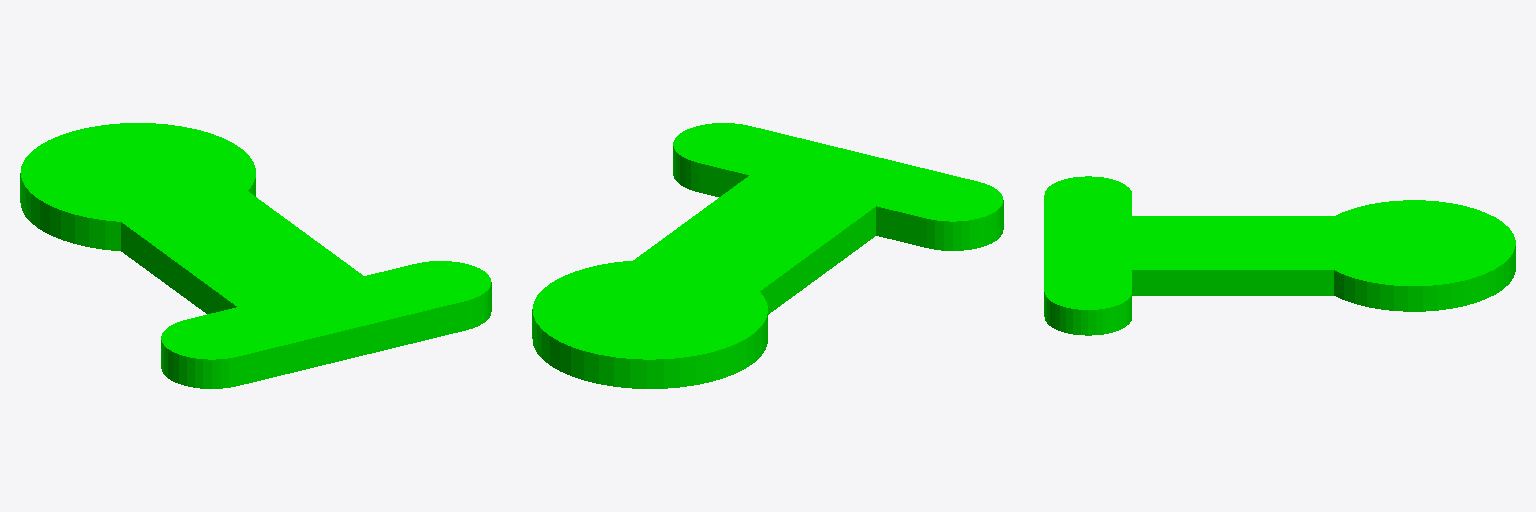
URDF robot description (rm_65_description):
<?xml version="1.0" encoding="utf-8"?>
<robot
  name="rm_65_description">
  <link
    name="base_link">
    <inertial>
      <origin
        xyz="-0.000433277303987328 -3.54664423471128E-05 0.0599427668933796"
        rpy="0 0 0" />
      <mass
        value="0.841070778135659" />
      <inertia
        ixx="0.0017261110801622"
        ixy="2.52746264980217E-06"
        ixz="-3.67690303614961E-05"
        iyy="0.00170987405835604"
        iyz="1.67996364994424E-06"
        izz="0.000904023422915791" />
    </inertial>
    <visual>
      <origin
        xyz="0 0 0"
        rpy="0 0 0" />
      <geometry>
        <mesh
          filename="package://rm_description/meshes/rm_65_arm/base_link.STL" />
      </geometry>
      <material
        name="">
        <color
          rgba="1 1 1 1" />
      </material>
    </visual>
    <collision>
      <origin
        xyz="0 0 0"
        rpy="0 0 0" />
      <geometry>
        <mesh
          filename="package://rm_description/meshes/rm_65_arm/base_link.STL" />
      </geometry>
    </collision>
  </link>
  <link
    name="Link1">
    <inertial>
      <origin
        xyz="1.2226305431569E-08 0.0211079974844683 -0.0251854220842269"
        rpy="0 0 0" />
      <mass
        value="0.593563443690403" />
      <inertia
        ixx="0.00126614120341847"
        ixy="-1.294980943835E-08"
        ixz="-9.80120923066996E-09"
        iyy="0.00118168178300364"
        iyz="-0.00021121727444415"
        izz="0.00056135241627747" />
    </inertial>
    <visual>
      <origin
        xyz="0 0 0"
        rpy="0 0 0" />
      <geometry>
        <mesh
          filename="package://rm_description/meshes/rm_65_arm/link1.STL" />
      </geometry>
      <material
        name="">
        <color
          rgba="1 1 1 1" />
      </material>
    </visual>
    <collision>
      <origin
        xyz="0 0 0"
        rpy="0 0 0" />
      <geometry>
        <mesh
          filename="package://rm_description/meshes/rm_65_arm/link1.STL" />
      </geometry>
    </collision>
  </link>
  <joint
    name="joint1"
    type="revolute">
    <origin
      xyz="0 0 0.2405"
      rpy="0 0 0" />
    <parent
      link="base_link" />
    <child
      link="Link1" />
    <axis
      xyz="0 0 1" />
    <limit
      lower="-3.1"
      upper="3.1"
      effort="60"
      velocity="3.14" />
  </joint>
  <link
    name="Link2">
    <inertial>
      <origin
        xyz="0.152256463426163 4.75383656106654E-07 -0.00620260383607792"
        rpy="0 0 0" />
      <mass
        value="0.864175046869043" />
      <inertia
        ixx="0.00089150298478414"
        ixy="-2.23268489334765E-08"
        ixz="0.00156246461035015"
        iyy="0.00733754343083901"
        iyz="6.28110889329165E-09"
        izz="0.00697869103915473" />
    </inertial>
    <visual>
      <origin
        xyz="0 0 0"
        rpy="0 0 0" />
      <geometry>
        <mesh
          filename="package://rm_description/meshes/rm_65_arm/link2.STL" />
      </geometry>
      <material
        name="">
        <color
          rgba="1 1 1 1" />
      </material>
    </visual>
    <collision>
      <origin
        xyz="0 0 0"
        rpy="0 0 0" />
      <geometry>
        <mesh
          filename="package://rm_description/meshes/rm_65_arm/link2.STL" />
      </geometry>
    </collision>
  </link>
  <joint
    name="joint2"
    type="revolute">
    <origin
      xyz="0 0 0"
      rpy="1.5708 -1.5708 0" />
    <parent
      link="Link1" />
    <child
      link="Link2" />
    <axis
      xyz="0 0 1" />
    <limit
      lower="-2.268"
      upper="2.268"
      effort="60"
      velocity="3.14" />
  </joint>
  <link
    name="Link3">
    <inertial>
      <origin
        xyz="5.05312670989961E-06 -0.0595925663694732 0.010569069212336"
        rpy="0 0 0" />
      <mass
        value="0.289633681624654" />
      <inertia
        ixx="0.00063737100450158"
        ixy="-7.05261293649751E-08"
        ixz="-3.86643272239426E-08"
        iyy="0.00015648388095025"
        iyz="-0.00014461035994916"
        izz="0.000614178164773085" />
    </inertial>
    <visual>
      <origin
        xyz="0 0 0"
        rpy="0 0 0" />
      <geometry>
        <mesh
          filename="package://rm_description/meshes/rm_65_arm/link3.STL" />
      </geometry>
      <material
        name="">
        <color
          rgba="1 1 1 1" />
      </material>
    </visual>
    <collision>
      <origin
        xyz="0 0 0"
        rpy="0 0 0" />
      <geometry>
        <mesh
          filename="package://rm_description/meshes/rm_65_arm/link3.STL" />
      </geometry>
    </collision>
  </link>
  <joint
    name="joint3"
    type="revolute">
    <origin
      xyz="0.256 0 0"
      rpy="0 0 1.5708" />
    <parent
      link="Link2" />
    <child
      link="Link3" />
    <axis
      xyz="0 0 1" />
    <limit
      lower="-2.355"
      upper="2.355"
      effort="30"
      velocity="3.92" />
  </joint>
  <link
    name="Link4">
    <inertial>
      <origin
        xyz="1.15516617405898E-06 -0.0180424468598241 -0.0215394748352687"
        rpy="0 0 0" />
      <mass
        value="0.239419768320061" />
      <inertia
        ixx="0.000285938919722783"
        ixy="3.07101359163101E-09"
        ixz="-2.21994118981953E-09"
        iyy="0.000262727540304212"
        iyz="4.4236583260078E-05"
        izz="0.000119888082791859" />
    </inertial>
    <visual>
      <origin
        xyz="0 0 0"
        rpy="0 0 0" />
      <geometry>
        <mesh
          filename="package://rm_description/meshes/rm_65_arm/link4.STL" />
      </geometry>
      <material
        name="">
        <color
          rgba="1 1 1 1" />
      </material>
    </visual>
    <collision>
      <origin
        xyz="0 0 0"
        rpy="0 0 0" />
      <geometry>
        <mesh
          filename="package://rm_description/meshes/rm_65_arm/link4.STL" />
      </geometry>
    </collision>
  </link>
  <joint
    name="joint4"
    type="revolute">
    <origin
      xyz="0 -0.21 0"
      rpy="1.5708 0 0" />
    <parent
      link="Link3" />
    <child
      link="Link4" />
    <axis
      xyz="0 0 1" />
    <limit
      lower="-3.1"
      upper="3.1"
      effort="10"
      velocity="3.92" />
  </joint>
  <link
    name="Link5">
    <inertial>
      <origin
        xyz="3.19794786262152E-06 -0.0593808368101458 0.00736804250989326"
        rpy="0 0 0" />
      <mass
        value="0.218799761431678" />
      <inertia
        ixx="0.000350540363914072"
        ixy="-3.41781619975602E-08"
        ixz="-1.77056457224373E-08"
        iyy="0.000104927867487581"
        iyz="-7.82431228461971E-05"
        izz="0.000334482418423629" />
    </inertial>
    <visual>
      <origin
        xyz="0 0 0"
        rpy="0 0 0" />
      <geometry>
        <mesh
          filename="package://rm_description/meshes/rm_65_arm/link5.STL" />
      </geometry>
      <material
        name="">
        <color
          rgba="1 1 1 1" />
      </material>
    </visual>
    <collision>
      <origin
        xyz="0 0 0"
        rpy="0 0 0" />
      <geometry>
        <mesh
          filename="package://rm_description/meshes/rm_65_arm/link5.STL" />
      </geometry>
    </collision>
  </link>
  <joint
    name="joint5"
    type="revolute">
    <origin
      xyz="0 0 0"
      rpy="-1.5708 0 0" />
    <parent
      link="Link4" />
    <child
      link="Link5" />
    <axis
      xyz="0 0 1" />
    <limit
      lower="-2.233"
      upper="2.233"
      effort="10"
      velocity="3.92" />
  </joint>

    <joint
    name="joint6"
    type="revolute">
    <origin
      xyz="0 -0.144 0"
      rpy="1.5708 0 0" />
    <parent
      link="Link5" />
    <child
      link="Link6" />
    <axis
      xyz="0 0 1" />
    <limit
      lower="-6.28"
      upper="6.28"
      effort="10"
      velocity="3.92" />
  </joint>
  <link
    name="Link6">
    <inertial>
      <origin
        xyz="0.000714234511756999 -0.000396718732824521 -0.0126723660946126"
        rpy="0 0 0" />
      <mass
        value="0.0649018034311231" />
      <inertia
        ixx="2.02766547502765E-05"
        ixy="-1.32505200276849E-06"
        ixz="-2.5845091522508E-08"
        iyy="1.87986725225022E-05"
        iyz="3.39471452125439E-09"
        izz="3.17885459163081E-05" />
    </inertial>
    <visual>
      <origin
        xyz="0 0 0"
        rpy="0 0 0" />
      <geometry>
        <mesh
          filename="package://rm_description/meshes/rm_65_arm/link6.STL" />
      </geometry>
      <material
        name="">
        <color
          rgba="1 1 1 1" />
      </material>
    </visual>
    <collision>
      <origin
        xyz="0 0 0"
        rpy="0 0 0" />
      <geometry>
        <mesh
          filename="package://rm_description/meshes/rm_65_arm/link6.STL" />
      </geometry>
    </collision>
  </link>

  <joint
    name="joint7"
    type="fixed">
    <origin xyz="-0.045 -0.029 0" rpy="0 0 0" />
    <parent
      link="Link6" />
    <child
      link="Camera_base_link" />
  </joint>

  <link
    name="Camera_base_link">
    <inertial>
      <origin
        xyz="0 0 0"
        rpy="0 0 0" />
      <mass
        value="0.02" />
      <inertia ixx="0" ixy="0" ixz="0" iyy="0" iyz="0" izz="0" />
    </inertial>
    <visual>
      <origin
        xyz="0 0 0"
        rpy="0 0 0" />
      <geometry>
        <mesh
          filename="package://rm_description/meshes/camera/camera_stander_no_hole.STL" />
      </geometry>
      <material name="custom_color">
        <color rgba="0 1 0 1" /> <!-- Green color, fully opaque -->
      </material>
    </visual>
    <collision>
      <origin
        xyz="0 0 0"
        rpy="0 0 0" />
      <geometry>
        <mesh
          filename="package://rm_description/meshes/camera/camera_stander_no_hole.STL" />
      </geometry>
    </collision>
  </link>



  <!-- 添加夹爪部分 -->
  <joint name="gripper_base_joint" type="fixed">
    <origin xyz="0.045 0.039 0.051" rpy="-1.5708 -1.5708 0" />
    <parent link="Camera_base_link" />
    <child link="gripper_base_link" />
  </joint>

  <link name="gripper_base_link">
    <inertial>
      <origin xyz="0.00339303654278191 -2.1205433560656E-05 -0.0099185365078758" rpy="0 0 0" />
      <mass value="0.105853592307918" />
      <inertia
        ixx="3.93795927851199E-05"
        ixy="-8.7395226509728E-08"
        ixz="5.91928672040786E-07"
        iyy="0.000106376720416166"
        iyz="-1.82858764303774E-10"
        izz="0.000125852616063213" />
    </inertial>
    <visual>
      <origin xyz="0 0 0" rpy="0 0 0" />
      <geometry>
        <mesh filename="package://rm_description/meshes/gripper/base_link.STL" />
      </geometry>
      <material name="">
        <color rgba="0.894117647058823 0.913725490196078 0.929411764705882 1" />
      </material>
    </visual>
    <collision>
      <origin xyz="0 0 0" rpy="0 0 0" />
      <geometry>
        <mesh filename="package://rm_description/meshes/gripper/base_link.STL" />
      </geometry>
    </collision>
  </link>

  <joint name="gripper_joint1" type="revolute">
    <origin xyz="0.036 -0.04 -0.019" rpy="-3.0158E-16 -7.1586E-16 -0.30719" />
    <parent link="gripper_base_link" />
    <child link="gripper_finger1_link1" />
    <axis xyz="0 0 1" />
    <limit lower="0" upper="1" effort="1" velocity="1" />
  </joint>

  <link name="gripper_finger1_link1">
    <inertial>
      <origin xyz="0.0164149658242926 9.75754915755189E-09 0.00898193900447147" rpy="0 0 0" />
      <mass value="0.00647716099397792" />
      <inertia
        ixx="2.95068972140683E-07"
        ixy="8.63208170411155E-13"
        ixz="-1.92008628754607E-09"
        iyy="1.69979619476872E-06"
        iyz="-1.99232397395103E-13"
        izz="1.45016449434989E-06" />
    </inertial>
    <visual>
      <origin xyz="0 0 0" rpy="0 0 0" />
      <geometry>
        <mesh filename="package://rm_description/meshes/gripper/Link1.STL" />
      </geometry>
      <material name="">
        <color rgba="0.894117647058823 0.913725490196078 0.929411764705882 1" />
      </material>
    </visual>
    <collision>
      <origin xyz="0 0 0" rpy="0 0 0" />
      <geometry>
        <mesh filename="package://rm_description/meshes/gripper/Link1.STL" />
      </geometry>
    </collision>
  </link>

  <joint
    name="finger1_link1_finger1_link2"
    type="revolute">
    <origin
      xyz="0.042 0 0.003"
      rpy="5.0393E-16 5.6225E-16 0.30719" />
    <parent
      link="gripper_finger1_link1" />
    <child
      link="gripper_finger1_link2" />
    <axis
      xyz="0 0 1" />
    <limit
      lower="-1"
      upper="0"
      effort="1"
      velocity="1" />
  </joint>

  <link name="gripper_finger1_link2">
    <inertial>
      <origin
        xyz="0.011366555972498 0.0118642725662323 0.0060000073930068"
        rpy="0 0 0" />
      <mass
        value="0.0127543420299361" />
      <inertia
        ixx="5.68538478020233E-07"
        ixy="-2.68012262729007E-07"
        ixz="9.34125984931838E-13"
        iyy="1.45145776457487E-06"
        iyz="9.34355360561326E-13"
        izz="1.50564598220449E-06" />
        </inertial>
    <visual>
      <origin
        xyz="0 0 0"
        rpy="0 0 0" />
      <geometry>
        <mesh
          filename="package://rm_description/meshes/gripper/Link11.STL" />
      </geometry>
      <material
        name="">
        <color
          rgba="0.894117647058823 0.913725490196078 0.929411764705882 1" />
      </material>
    </visual>
    <collision>
      <origin
        xyz="0 0 0"
        rpy="0 0 0" />
      <geometry>
        <mesh
          filename="package://rm_description/meshes/gripper/Link11.STL" />
      </geometry>
    </collision>
  </link>


  <joint name="gripper_joint2" type="revolute">
    <origin xyz="0.036 0.04 -0.019" rpy="-2.6397E-16 3.7199E-16 0.30719" />
    <parent link="gripper_base_link" />
    <child link="gripper_finger2_link1" />
    <axis xyz="0 0 1" />
    <limit lower="-1" upper="0" effort="1" velocity="1" />
  </joint>

  <link name="gripper_finger2_link1">
    <inertial>
      <origin xyz="0.0164149658242926 9.75754915755189E-09 0.00898193900447147" rpy="0 0 0" />
      <mass value="0.00647716099397792" />
      <inertia
        ixx="2.95068972140683E-07"
        ixy="8.63208169650113E-13"
        ixz="-1.92008628755341E-09"
        iyy="1.69979619476872E-06"
        iyz="-1.99232397320157E-13"
        izz="1.45016449434989E-06" />
    </inertial>
    <visual>
      <origin xyz="0 0 0" rpy="0 0 0" />
      <geometry>
        <mesh filename="package://rm_description/meshes/gripper/Link2.STL" />
      </geometry>
      <material name="">
        <color rgba="0.894117647058823 0.913725490196078 0.929411764705882 1" />
      </material>
    </visual>
    <collision>
      <origin xyz="0 0 0" rpy="0 0 0" />
      <geometry>
        <mesh filename="package://rm_description/meshes/gripper/Link2.STL" />
      </geometry>
    </collision>
  </link>

  <joint
    name="finger2_link1_finger2_link2"
    type="revolute">
    <origin
      xyz="0.042 0 0.015"
      rpy="-3.641E-16 2.4584E-16 2.8344" />
    <parent
      link="gripper_finger2_link1" />
    <child
      link="gripper_finger2_link2" />
    <axis
      xyz="0 0 1" />
    <limit
      lower="0"
      upper="1"
      effort="1"
      velocity="1" />
  </joint>

  <link
    name="gripper_finger2_link2">
    <inertial>
      <origin
        xyz="-0.011366555972498 0.0118642725662323 -0.0060000073930068"
        rpy="0 0 0" />
      <mass
        value="0.0127543420299362" />
      <inertia
        ixx="5.68538478020238E-07"
        ixy="2.6801226272901E-07"
        ixz="9.34125986250171E-13"
        iyy="1.45145776457489E-06"
        iyz="-9.34355361631596E-13"
        izz="1.5056459822045E-06" />
    </inertial>
    <visual>
      <origin
        xyz="0 0 0"
        rpy="0 0 0" />
      <geometry>
        <mesh
          filename="package://rm_description/meshes/gripper/Link22.STL" />
      </geometry>
      <material
        name="">
        <color
          rgba="0.894117647058823 0.913725490196078 0.929411764705882 1" />
      </material>
    </visual>
    <collision>
      <origin
        xyz="0 0 0"
        rpy="0 0 0" />
      <geometry>
        <mesh
          filename="package://rm_description/meshes/gripper/Link22.STL" />
      </geometry>
    </collision>
  </link>

</robot>


--- What the picture shows (computed from the rendered views, not written in the file) ---
The picture shows the robot from 3 angles, left to right: view 1: azimuth 30°, elevation 25°; view 2: azimuth 150°, elevation 25°; view 3: azimuth 270°, elevation 25°; orthographic projection.
Robot: rm_65_description — 13 links, 12 joints (10 revolute, 2 fixed); root link base_link; default pose: every joint at zero.
Visible links, largest first — view 1: Camera_base_link; view 2: Camera_base_link; view 3: Camera_base_link.
Boxes of the visible links, bbox=[...] form: Camera_base_link: bbox=[20, 123, 491, 388]; Camera_base_link: bbox=[532, 123, 1003, 388]; Camera_base_link: bbox=[1044, 176, 1515, 335].
Bounding box of the posed robot: 0.09 × 0.1339 × 0.008 m (x, y, z).
1 mesh visuals loaded from 13 distinct referenced files (1 binary STL); not drawn: 12 (reference not matched to a file when rendering).